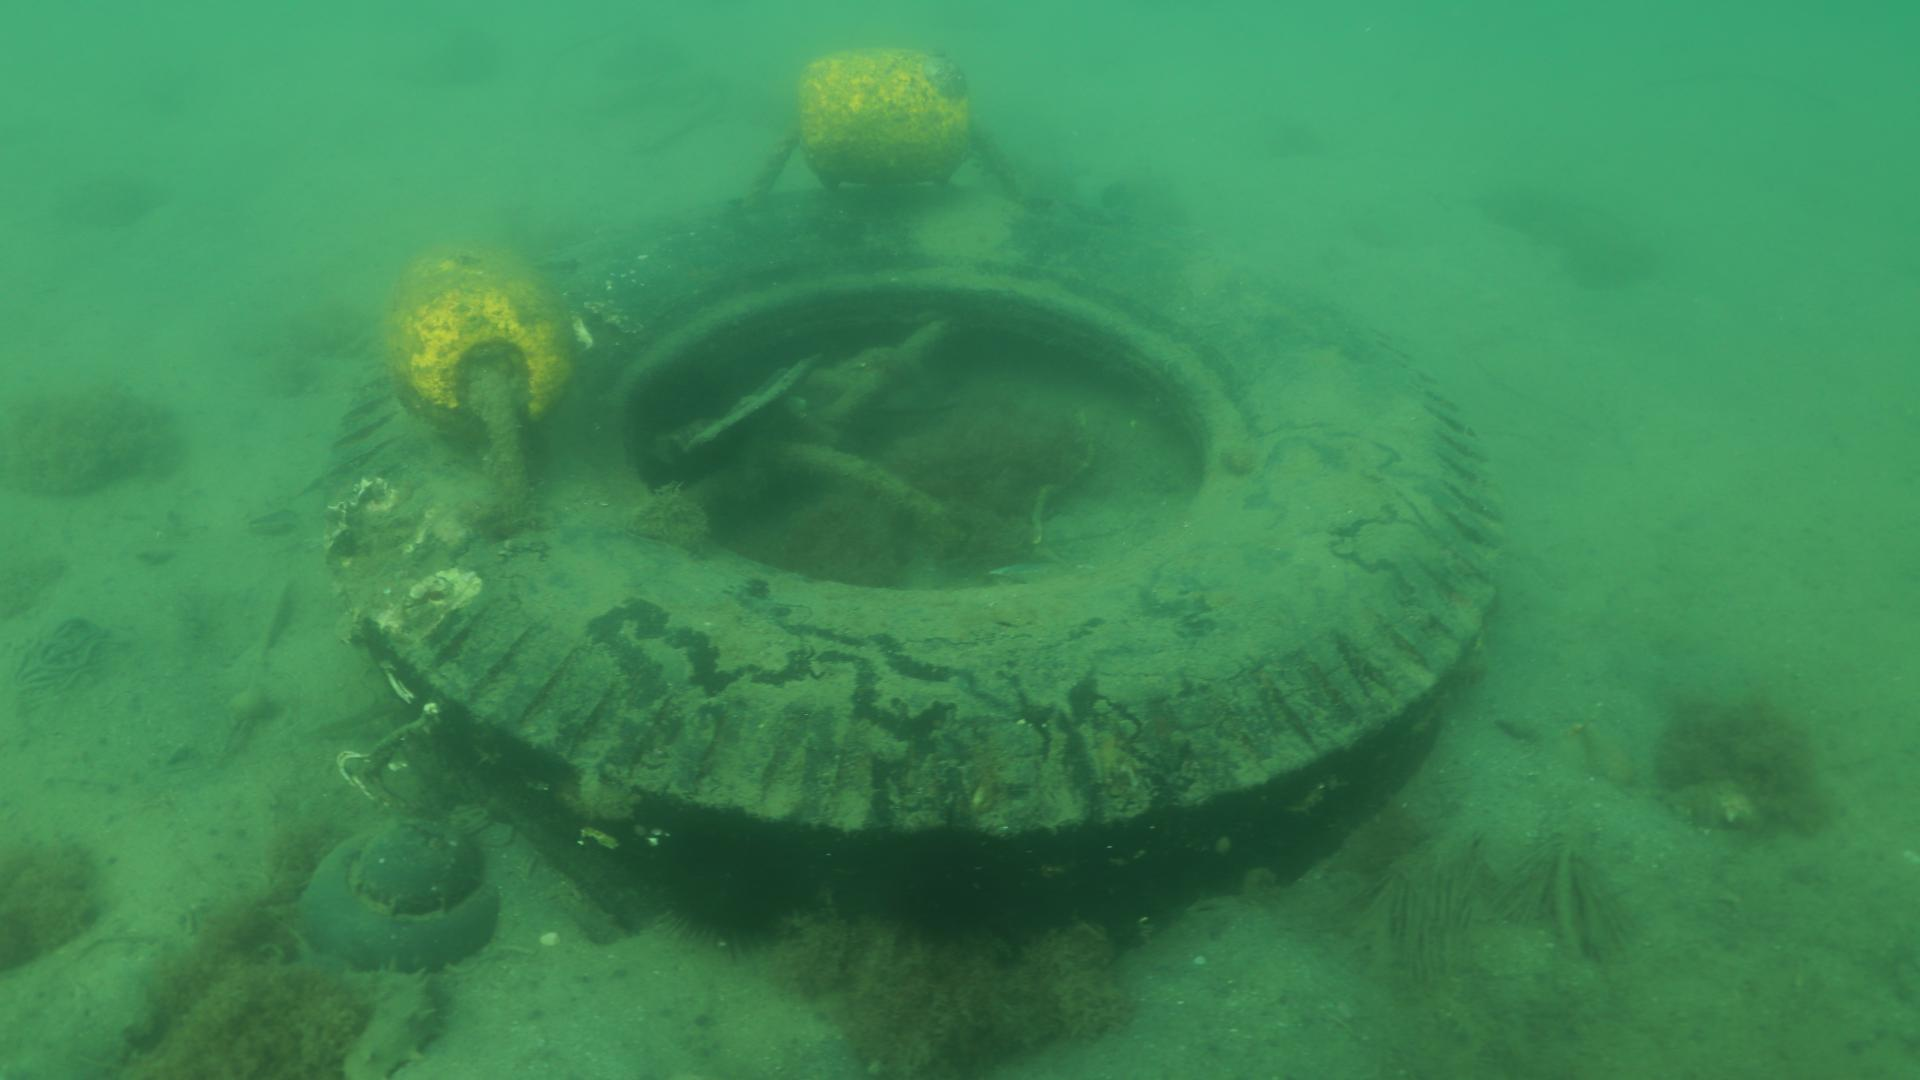bundle of ropes: (807, 314, 956, 419)
tire: (320, 181, 1507, 957)
